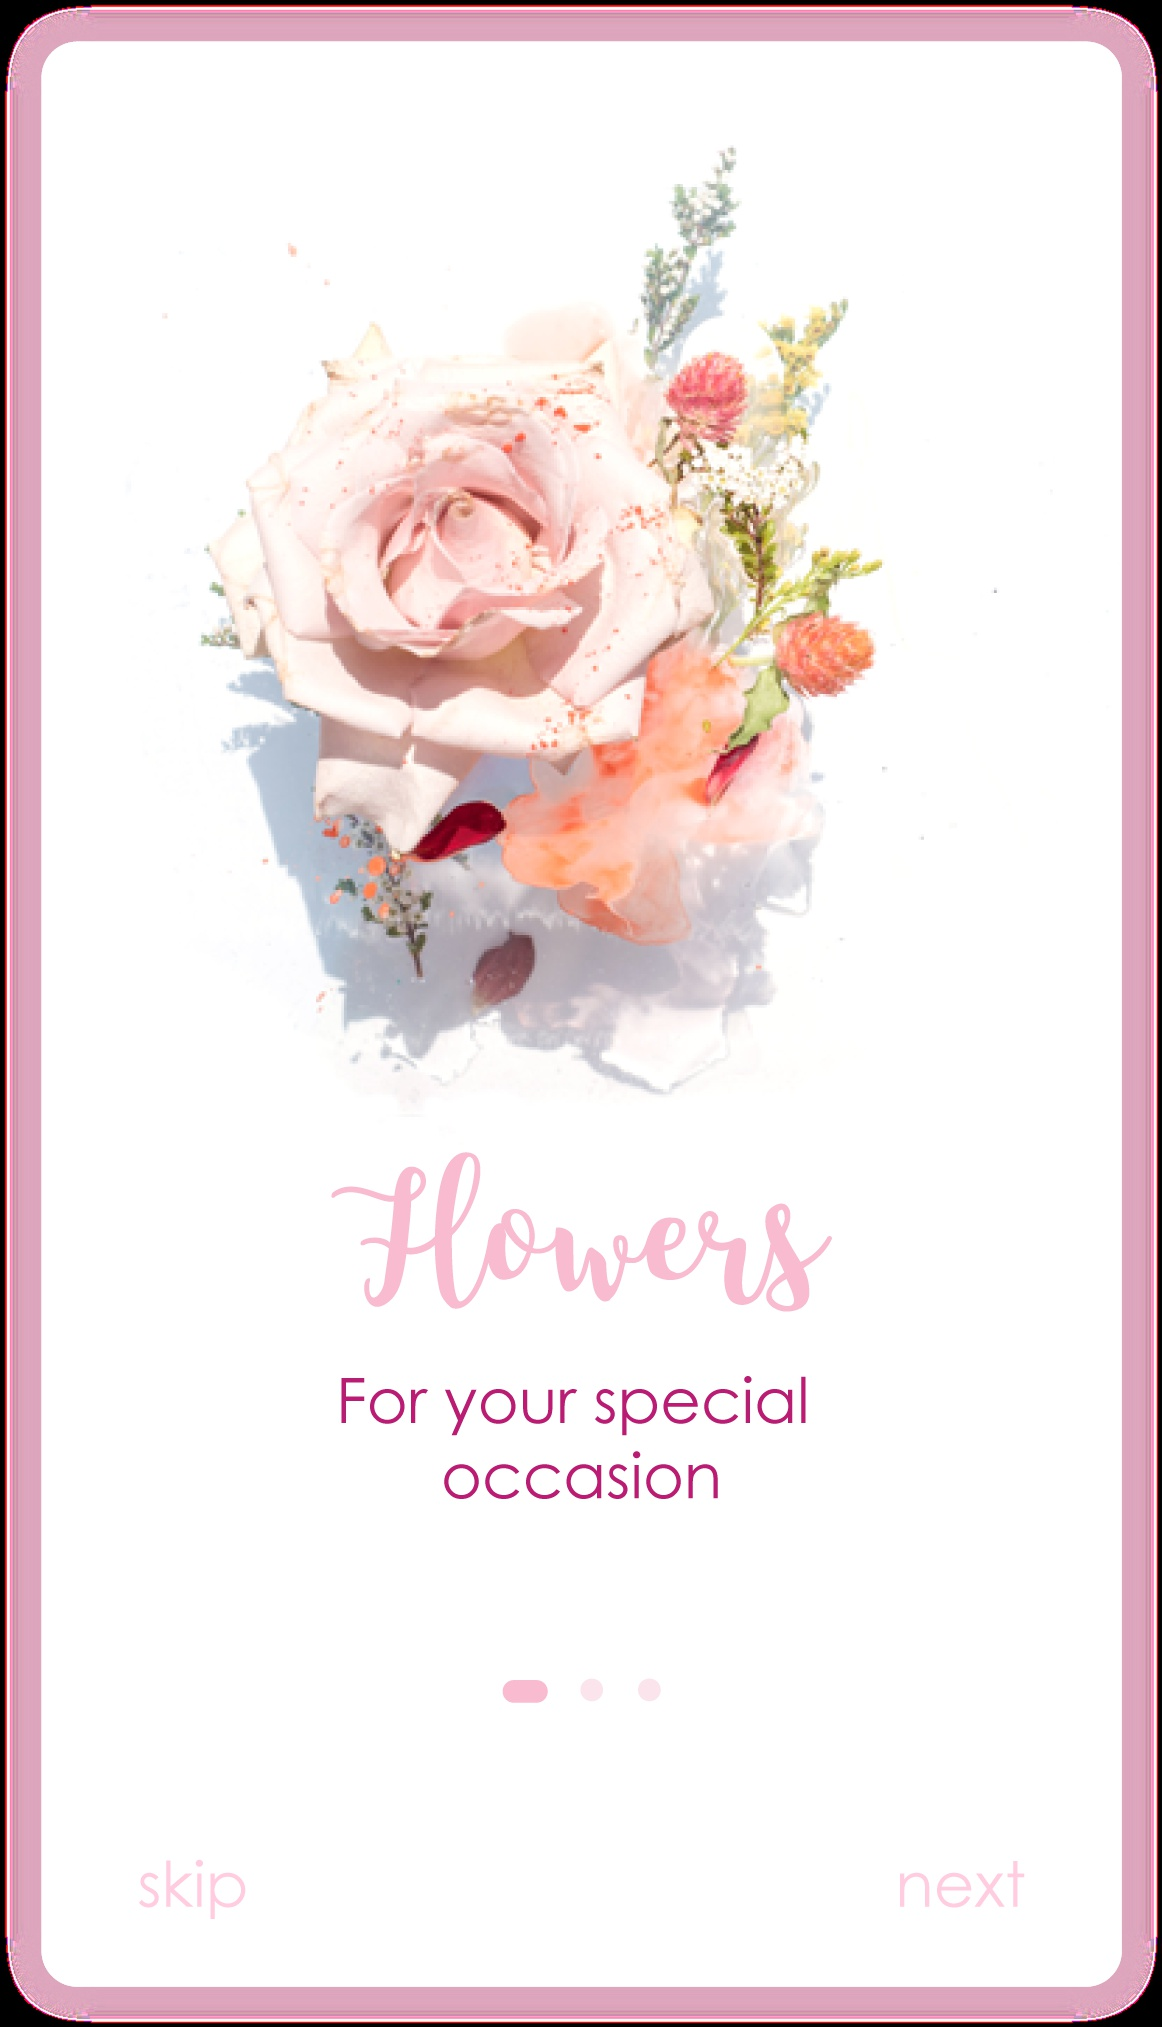Image: (192, 143, 884, 1094), (330, 1150, 834, 1314)
PageIndicator: (502, 1678, 662, 1705)
Text: (340, 1375, 809, 1501), (139, 1859, 246, 1920), (899, 1860, 1026, 1909)
